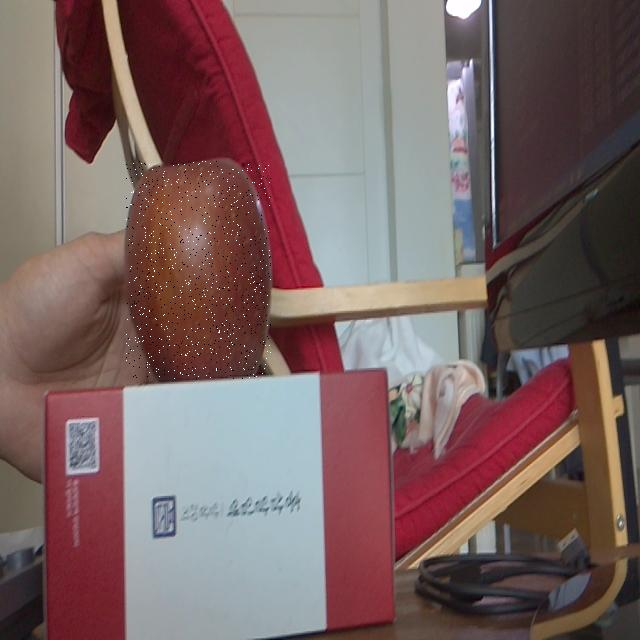apple: (126, 161, 271, 379)
